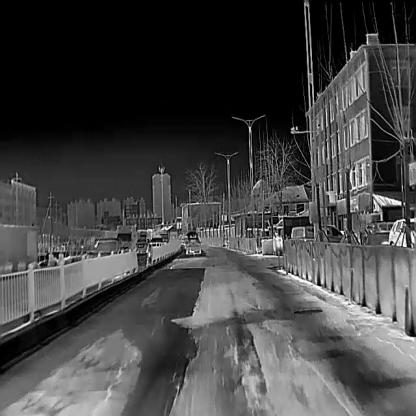car: (81, 237, 125, 260), (290, 225, 348, 242), (362, 220, 396, 244), (390, 217, 415, 245), (185, 237, 201, 257), (134, 238, 148, 253)
truck: (116, 225, 135, 252)
